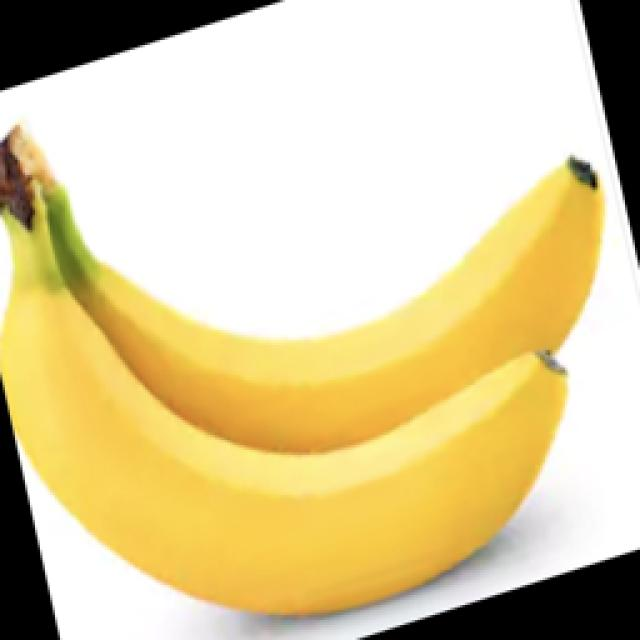Fresh_Banana: (3, 119, 622, 609)
